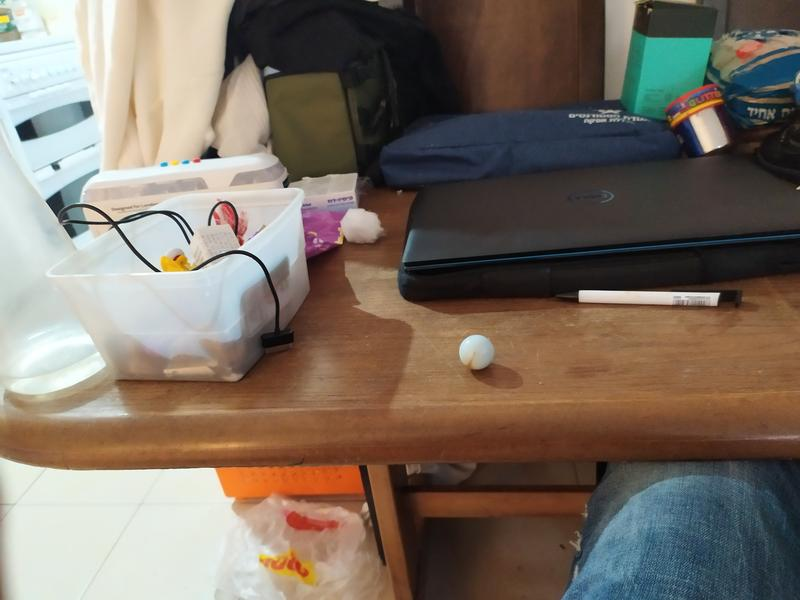Warning: (457, 333, 497, 373)
